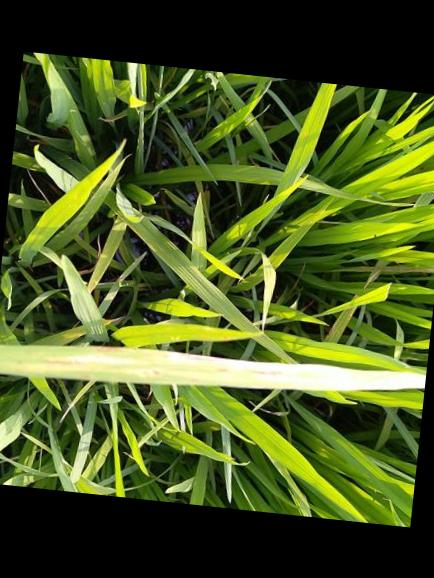Leaf Streak: (44, 346, 426, 391)
